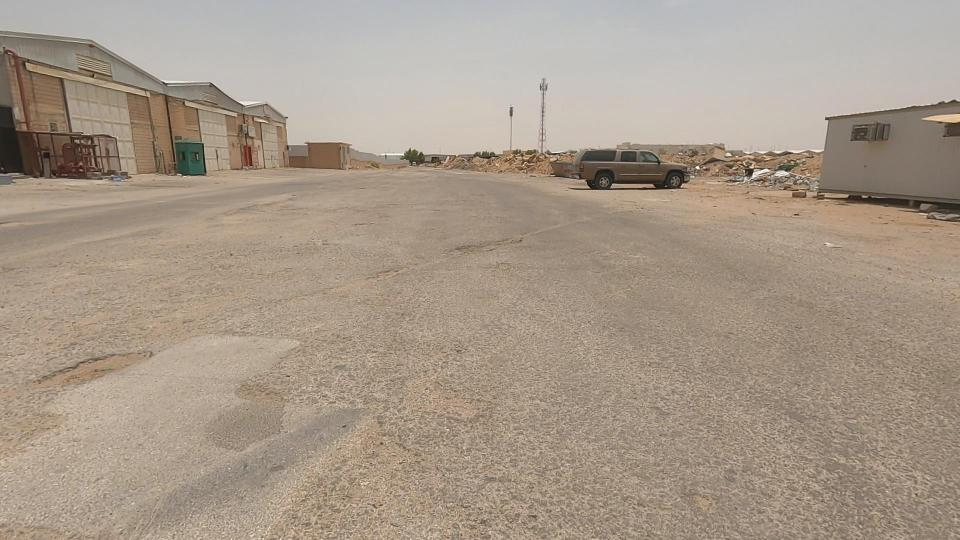GARBAGE: (697, 137, 843, 216), (672, 145, 742, 193)
POTHOLES: (0, 303, 199, 428), (388, 185, 591, 296), (168, 342, 338, 458), (325, 231, 445, 323)
SAND_ON_ROAD: (451, 131, 547, 195), (500, 128, 577, 200)
